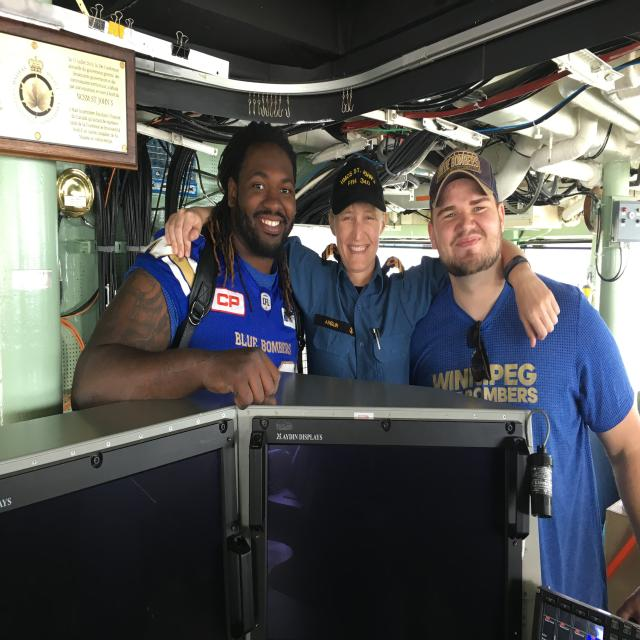body: (407, 142, 640, 638), (163, 154, 562, 388), (69, 120, 301, 413)
